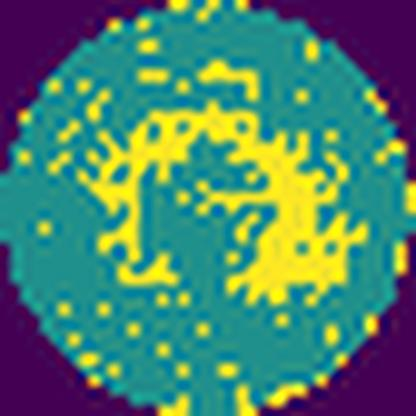Donut: (50, 54, 373, 309)
